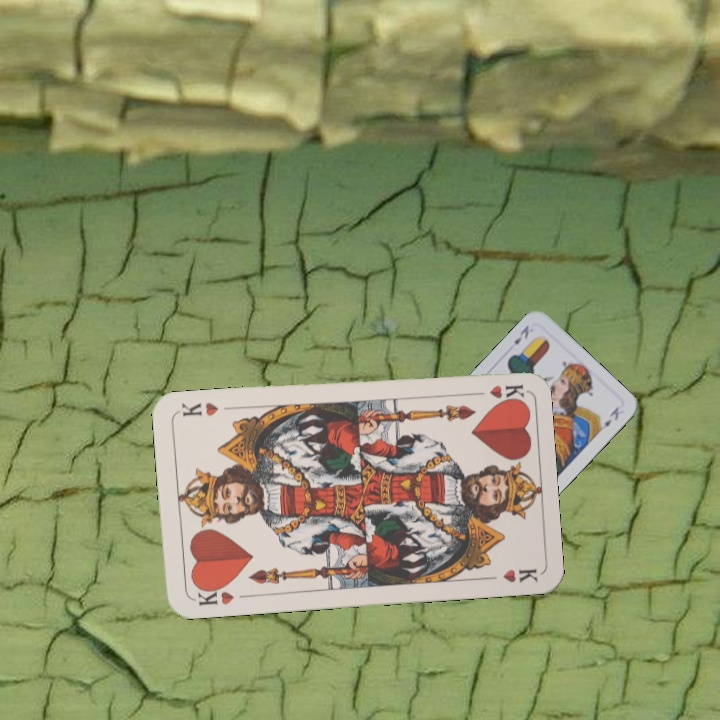EK: (510, 321, 532, 347)
HK: (466, 380, 525, 402), (190, 581, 237, 608)
